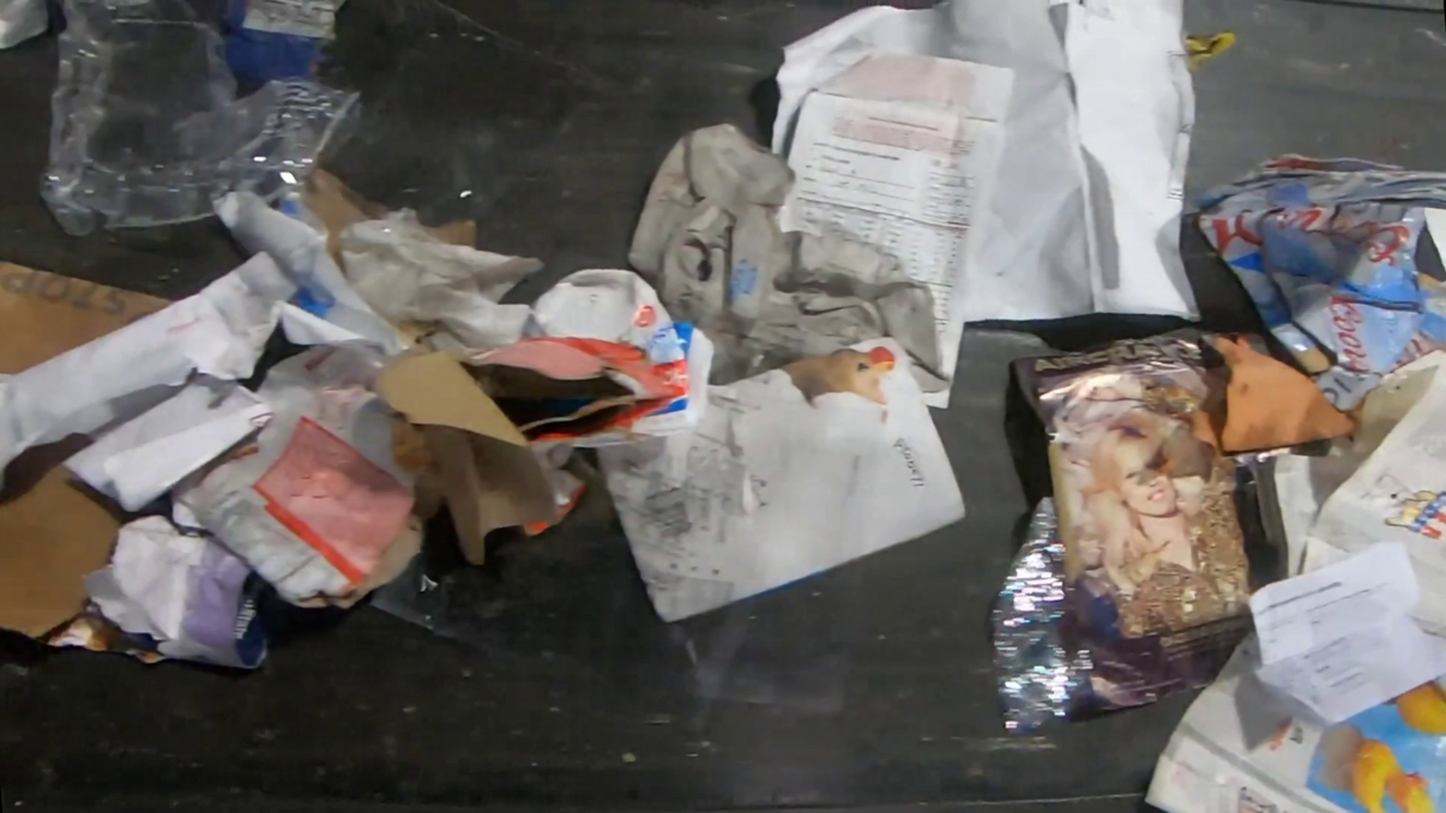cardboard: (63, 340, 434, 613), (1183, 149, 1446, 417), (398, 320, 696, 538), (1141, 626, 1446, 813), (375, 344, 556, 569), (0, 432, 131, 642), (0, 258, 182, 374)
plastic: (358, 293, 908, 717), (264, 0, 617, 342), (35, 0, 362, 239), (985, 492, 1097, 743), (522, 265, 674, 348)
